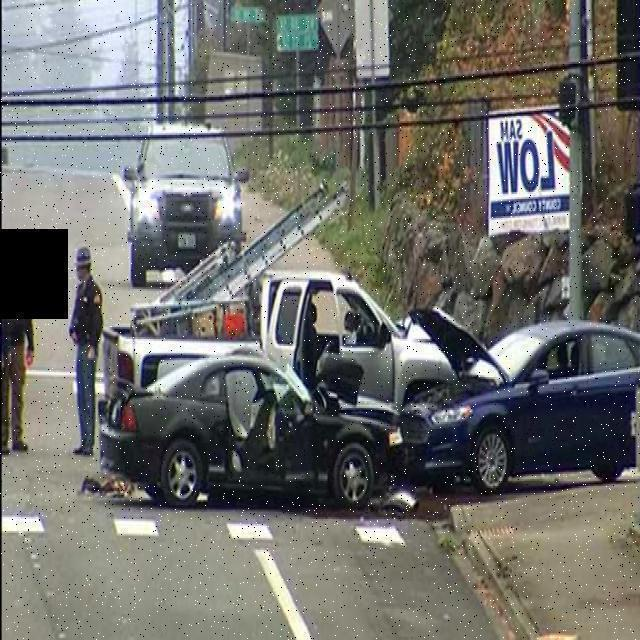accident: (98, 292, 640, 512)
